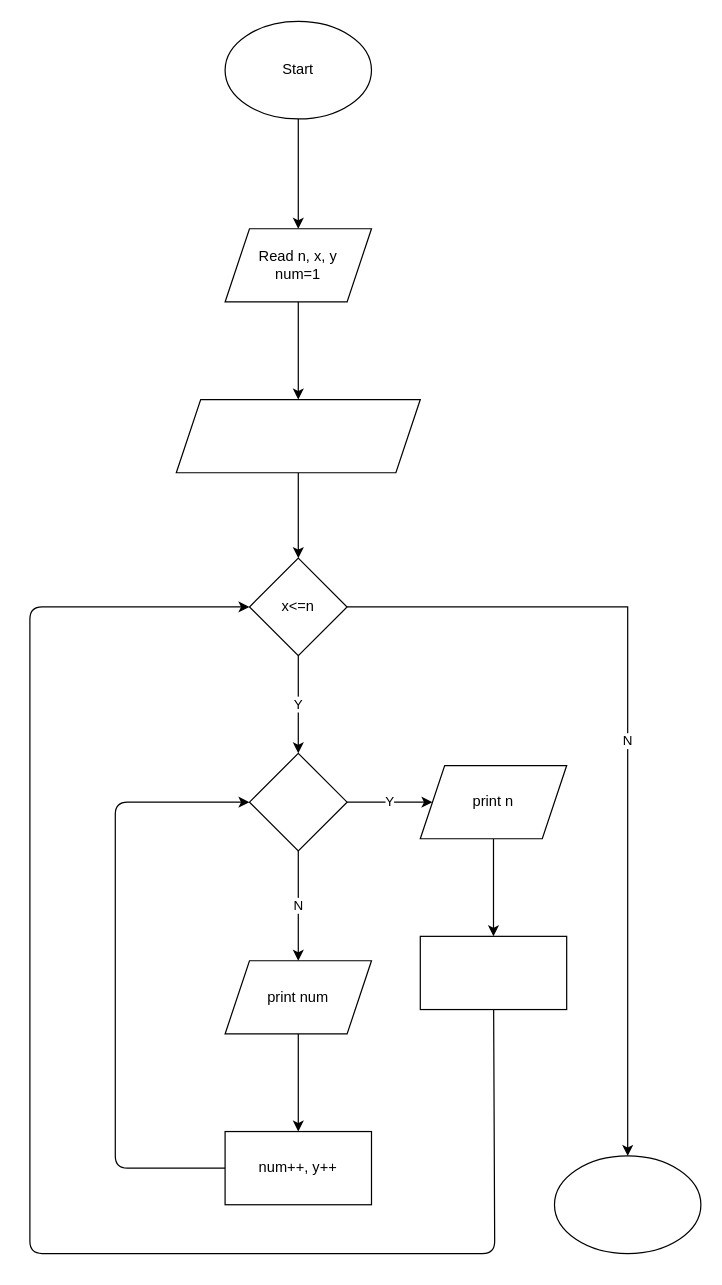
The diagram is 722 pixels wide and 1285 high, and some of its shapes have lost their labels. Each missing label, with the box of its shape:
Input number of rows: (175, 398, 420, 473)
x++: (419, 935, 567, 1010)
y<=n: (248, 752, 347, 851)
